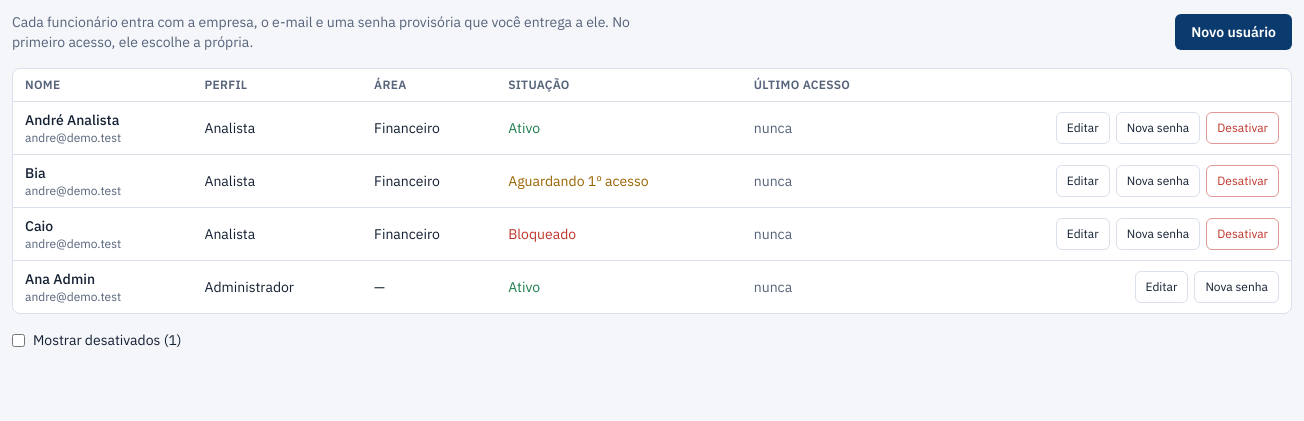
Test case: Usuários › lista com a situação de cada um e esconde os desativados
Expected: the text "André Analista" is shown, [25,111,119,129]
Expected: the text "Aguardando 1º acesso" is shown, [508,172,649,190]
Click the checkbox labelled "Mostrar desativados (1)" at (18,340), box [12,334,25,346]
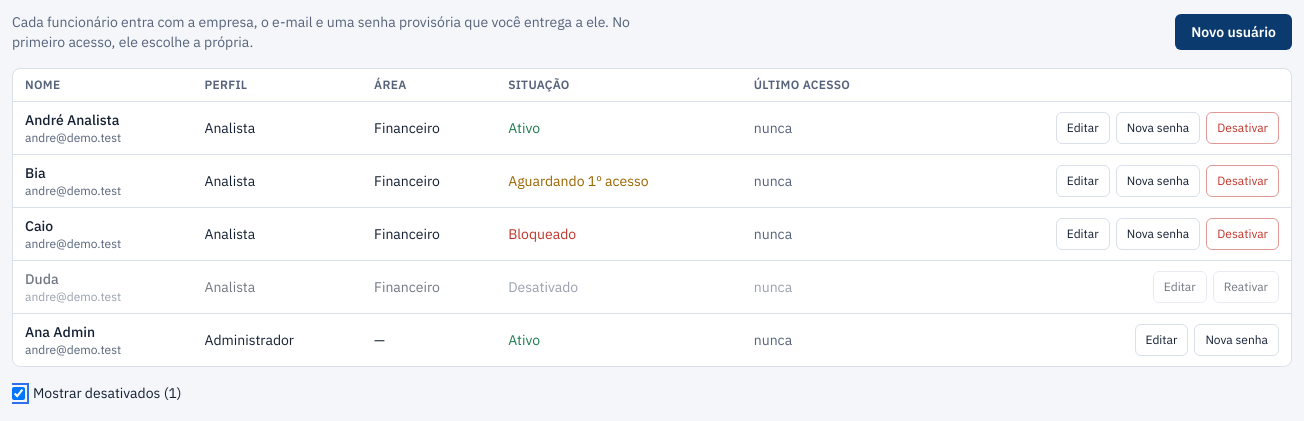
Result: the text "Duda" is shown at [25,270,59,288]
Result: the button with aria-label "Reativar Duda" is shown at [1213,271,1279,303]
